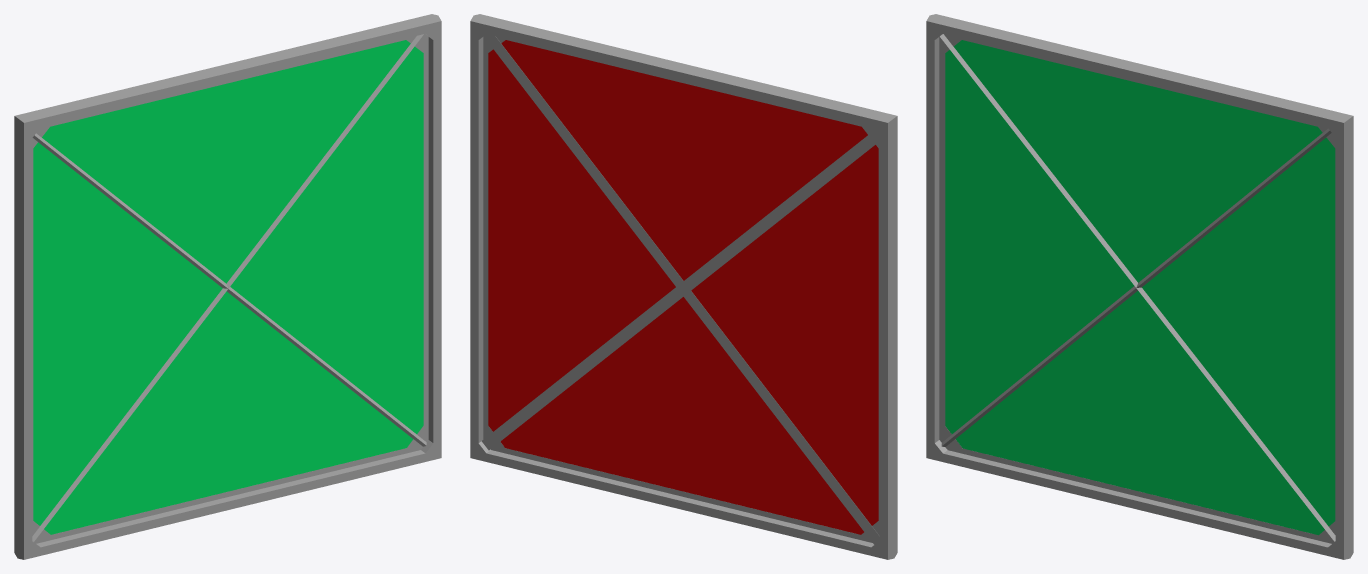
Rendered from Center window.fbx.
The picture shows the model from 3 angles, left to right: view 1: azimuth 30°, elevation 25°; view 2: azimuth 150°, elevation 25°; view 3: azimuth 330°, elevation 25°; orthographic projection.
Parts seen in each view (by area): view 1: window, Frame, Bezzel, Construction_Model; view 2: window, Frame, Construction_Model, Bezzel; view 3: window, Frame, Bezzel, Construction_Model.
Boxes of the visible parts, x1,y1,x2,y2 form: window: (33,40,423,534); Frame: (14,14,441,559); Bezzel: (32,34,428,543); Construction_Model: (32,34,426,541); window: (488,40,878,534); Frame: (470,14,897,559); Construction_Model: (481,34,879,544); Bezzel: (483,36,879,542); window: (945,40,1335,535); Frame: (926,14,1353,559); Bezzel: (939,34,1335,543); Construction_Model: (940,34,1335,541).
Size of the model in its own units: 252 by 252 by 10.
